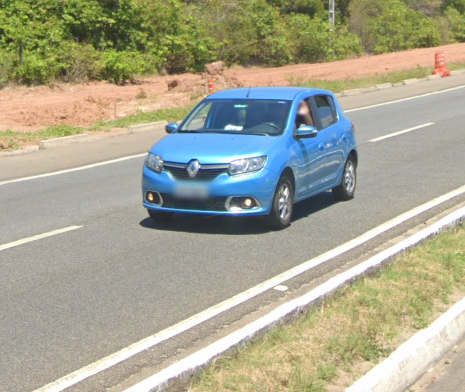car: (138, 83, 360, 233)
